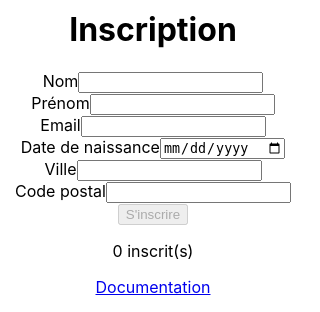
Test: happy path › App component › submit button becomes enabled once every field is filled
Type "Bremaud" into the field labelled "Nom" at (171, 82), box left=78, top=72, right=263, bottom=93
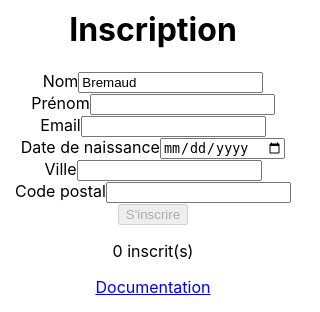
Type "Benoit" into the field labelled "Prénom" at (182, 104), box left=90, top=94, right=275, bottom=115
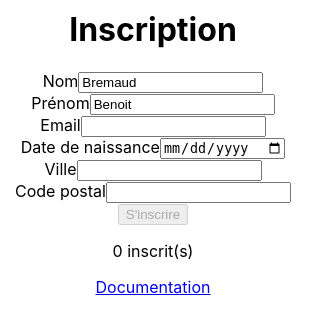
Type "benoit@example.com" into the field labelled "Email" at (173, 126), box left=81, top=116, right=266, bottom=137
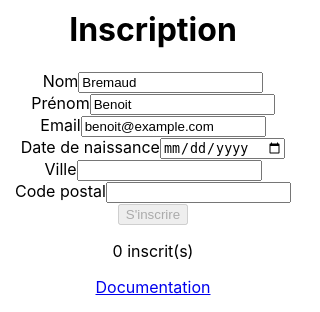
Type "1981-05-22" into the date field labelled "Date de naissance" at (223, 148), box left=160, top=138, right=285, bottom=159
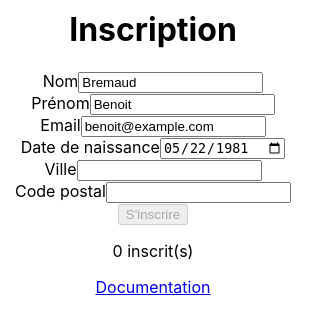
Type "Grasse" into the field labelled "Ville" at (169, 170), box left=76, top=160, right=262, bottom=181
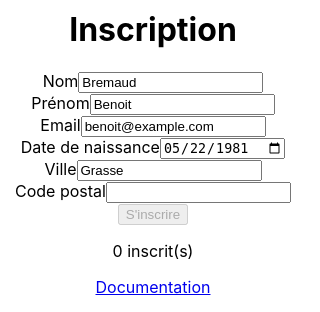
Type "06130" into the field labelled "Code postal" at (198, 192), box left=106, top=182, right=291, bottom=203
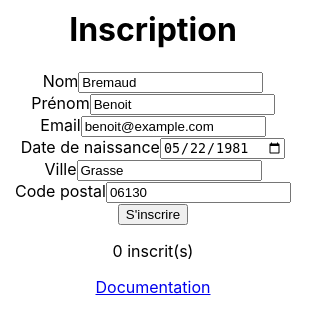
Now the button "S'inscrire" is enabled, box left=118, top=204, right=188, bottom=225
